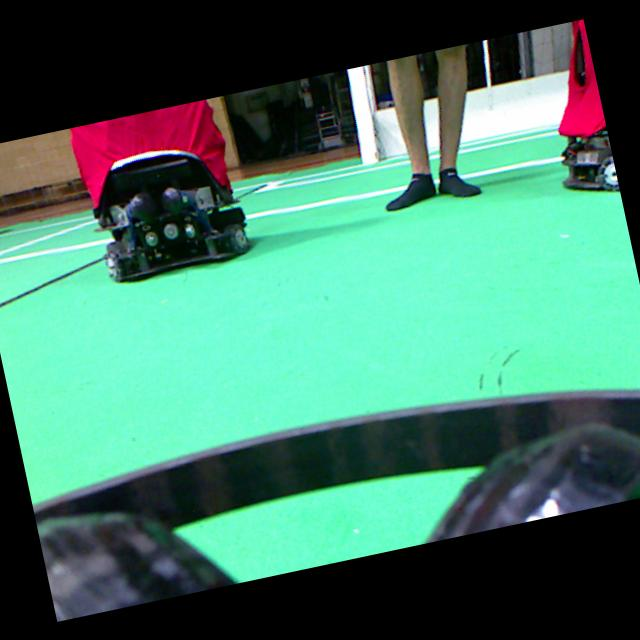goal: (346, 66, 377, 164)
